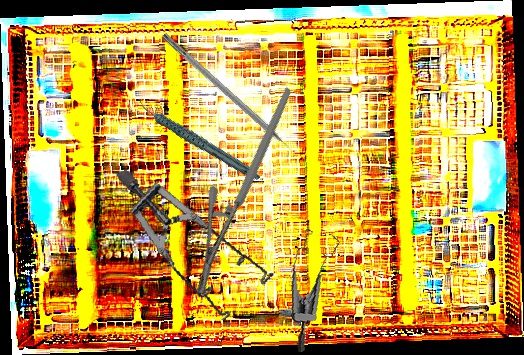Handpiece: (135, 76, 262, 203)
Hook Surgical: (160, 31, 307, 166)
Needle Holder: (141, 86, 348, 299)
Speculum: (115, 144, 282, 336), (278, 224, 356, 353)
